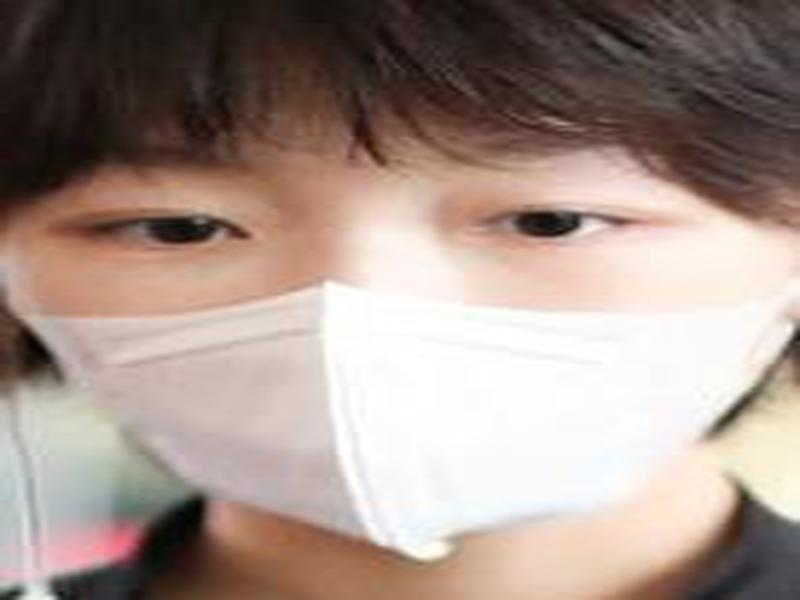with_mask: (1, 2, 799, 565)
